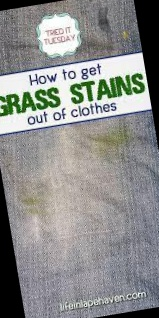earth: (93, 123, 139, 159), (24, 194, 51, 217)
